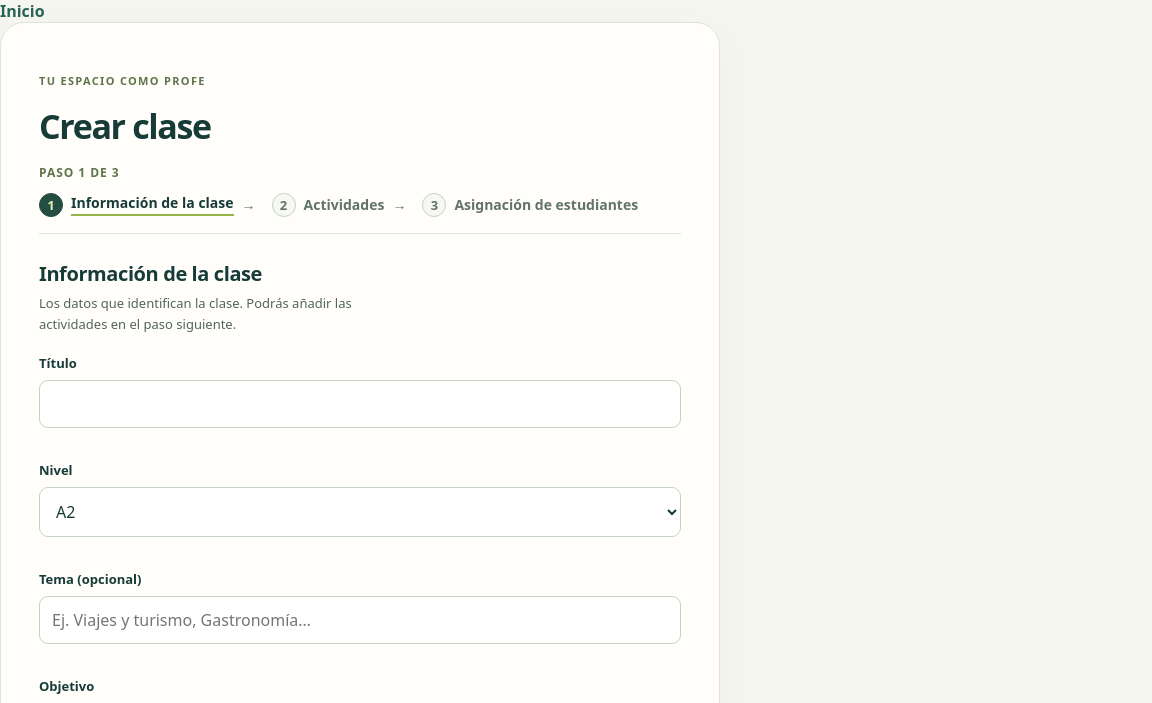
Test case: creates using trimmed metadata, supports topic datalist, and opens the saved editor
Type " Nueva " into the field labelled "Título" at (360, 404), box [39,380,681,428]
Type " Tema " into the field labelled "Tema (opcional)" at (360, 620), box [39,596,681,644]
(page scrolled)
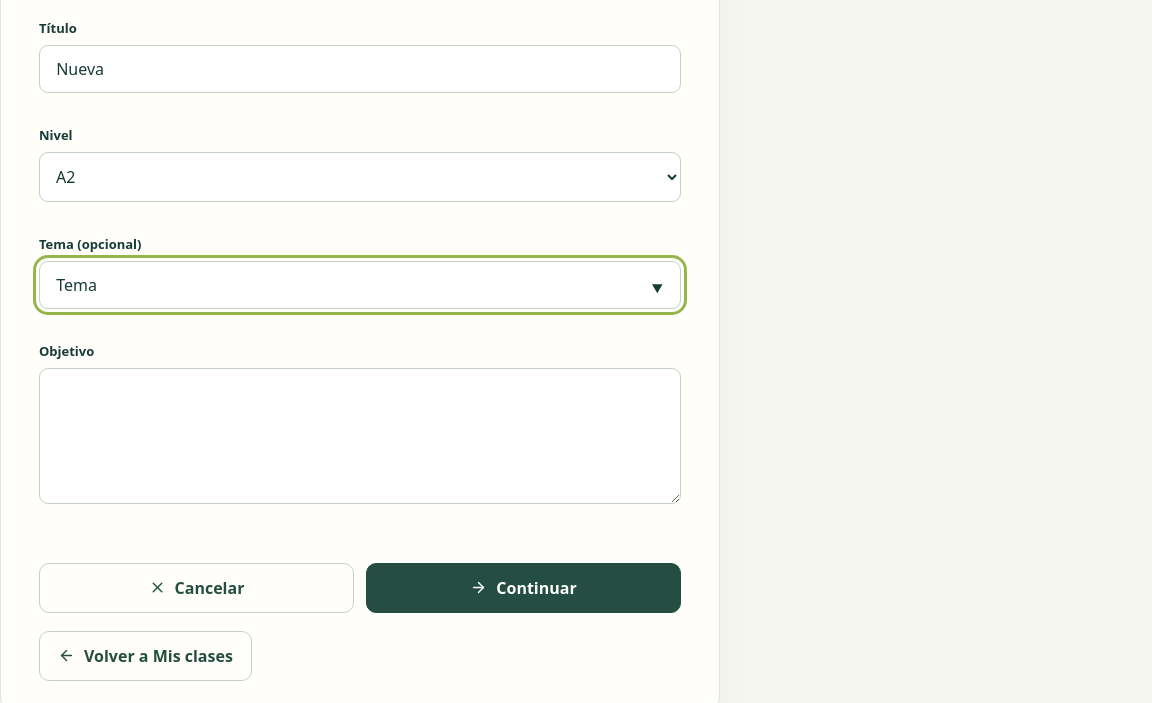
Type " Objetivo " into the text box labelled "Objetivo" at (360, 436), box [39,368,681,504]
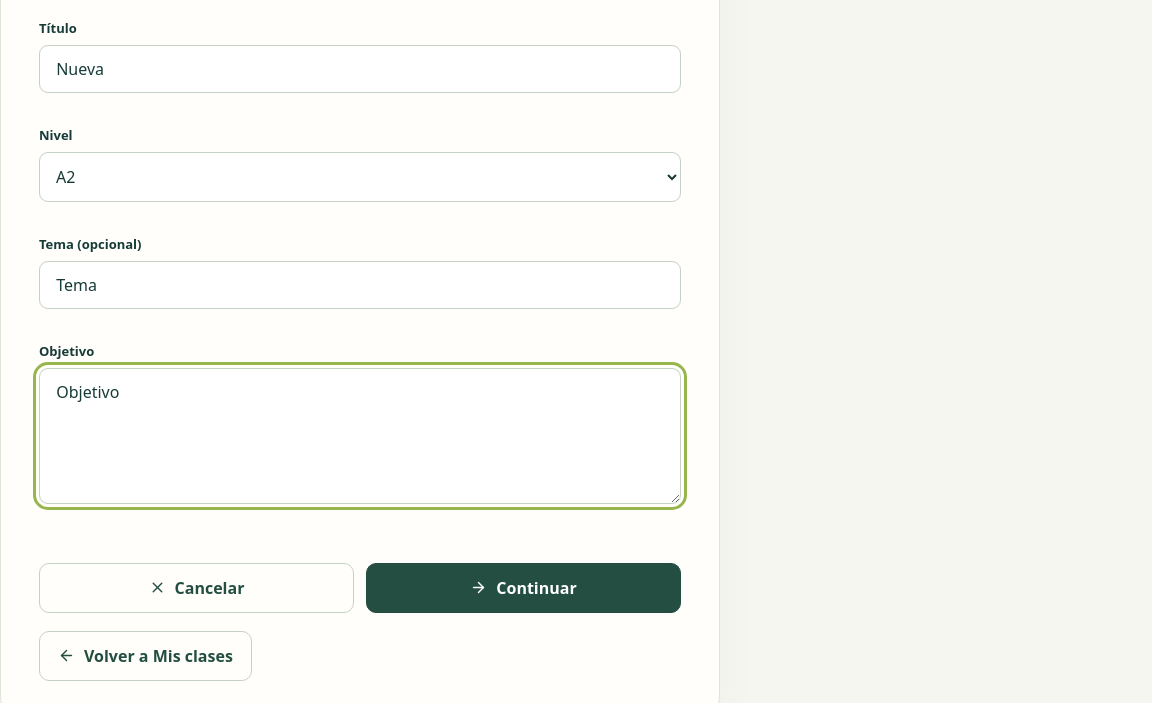
Select "B1" in the dropdown labelled "Nivel" at (360, 177), box [39,152,681,202]
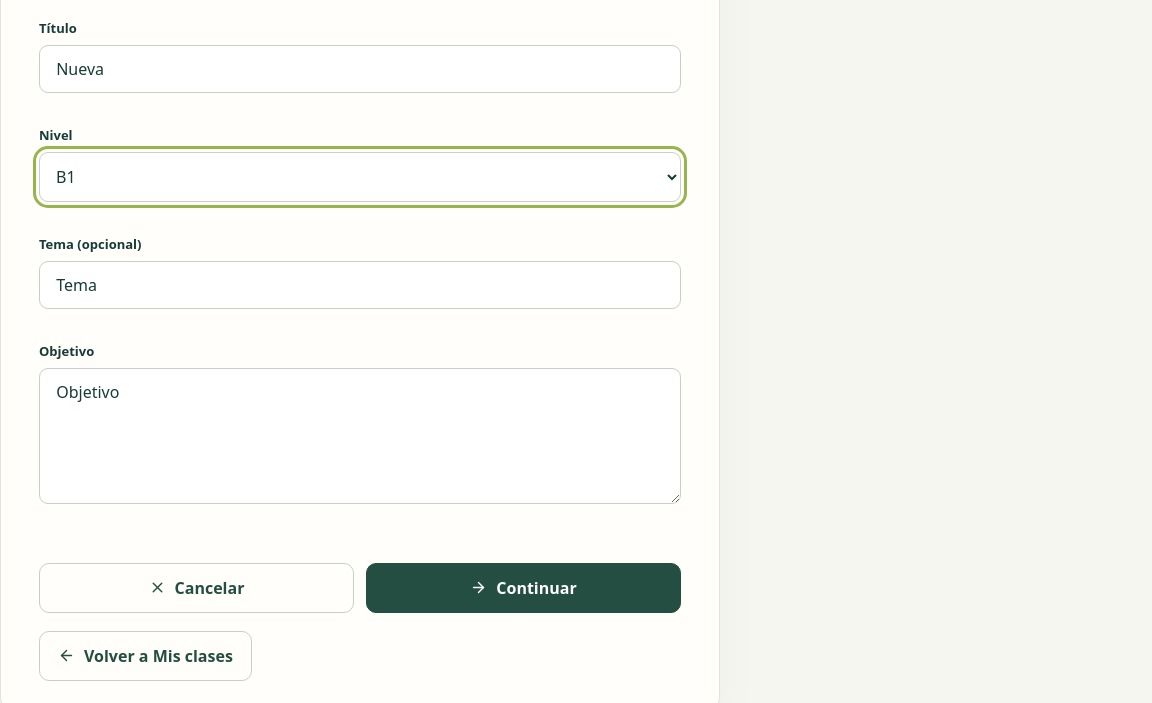
Click the button "Continuar" at (524, 588), box [366,563,681,613]
(page scrolled)
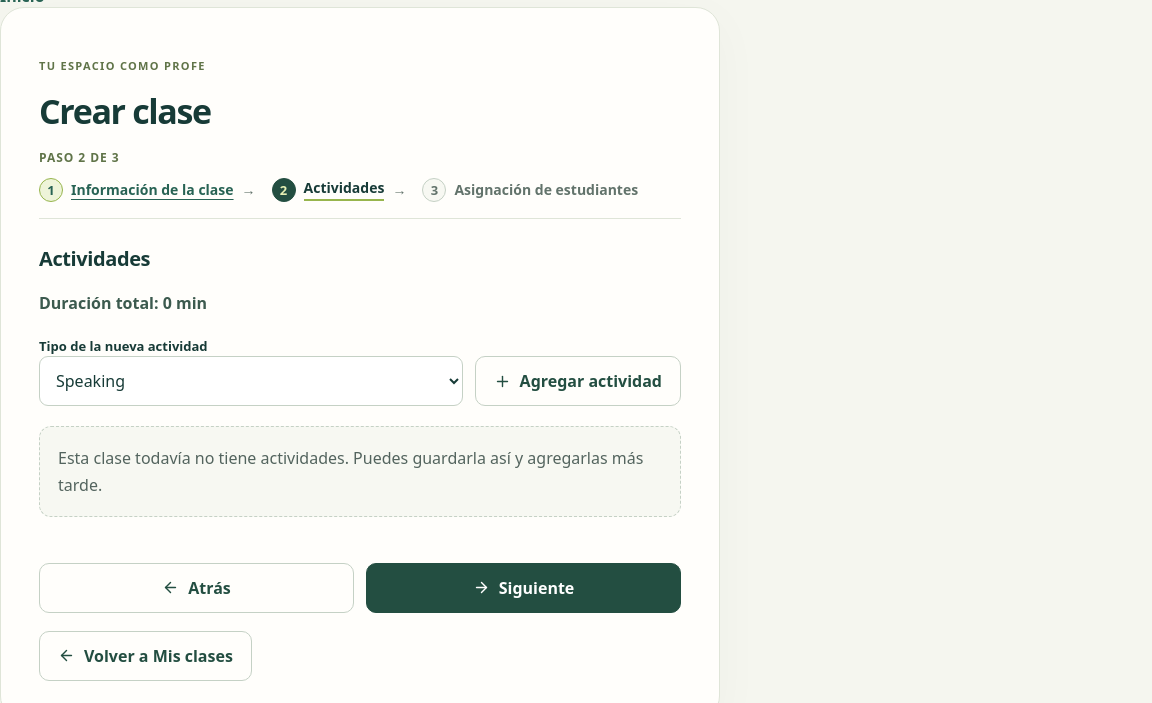
Click the button "Siguiente" at (524, 588), box [366,563,681,613]
(page scrolled)
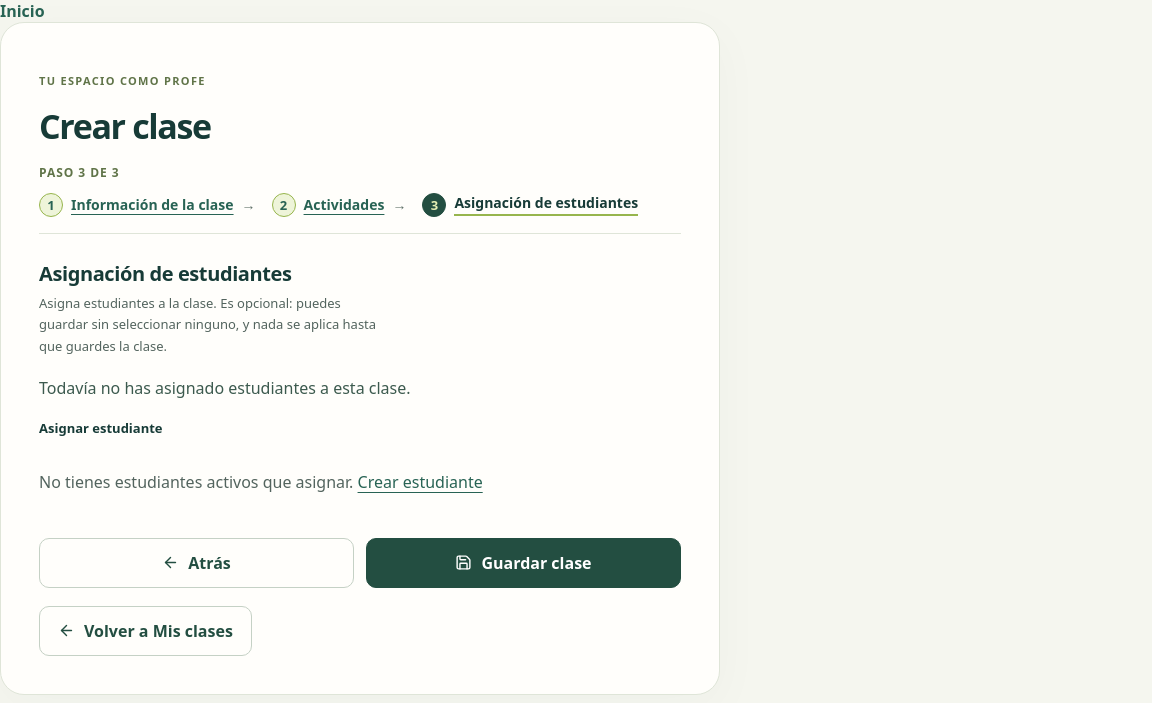
Click the button "Guardar clase" at (524, 563), box [366,538,681,588]
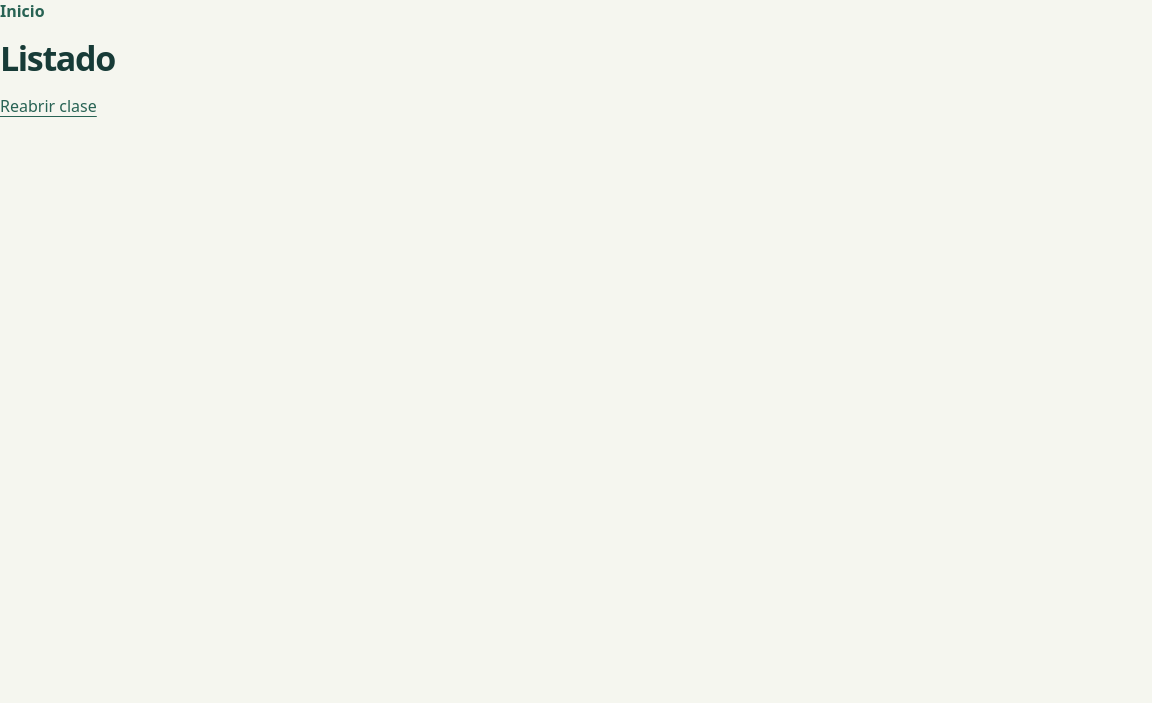
Result: the heading "Listado" is shown at [0,35,115,81]
